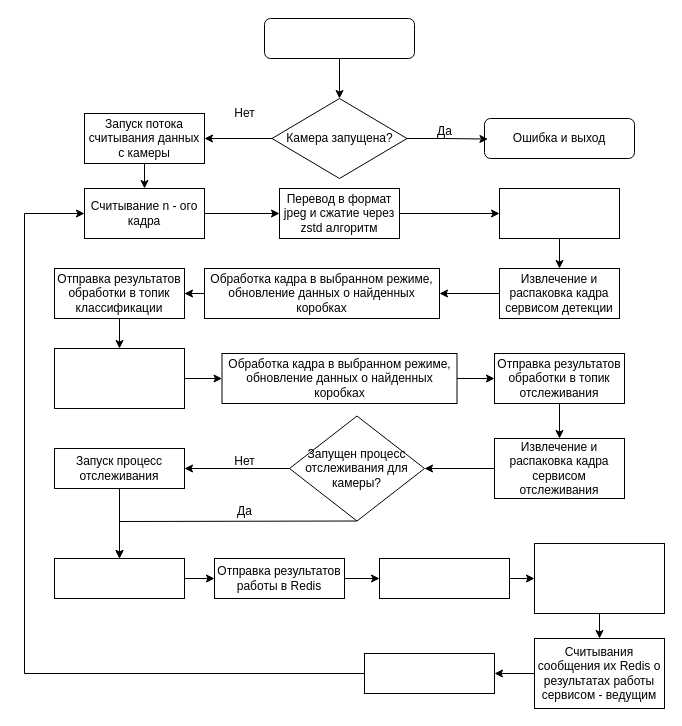
The diagram is 682 pixels wide and 726 high, and some of its shapes have lost their labels. The centre of each missing label's shape, as x and y in pixels:
"Запрос на начало процесса считывания с камеры" belongs at (x=339, y=38).
"Извлечение и распаковка кадра сервисом классификации" belongs at (x=119, y=378).
"Обработка кадра в выбранном режиме" belongs at (x=119, y=578).
"Отправка кадра и данных о процессе в топик kafka" belongs at (x=559, y=213).
"Отправка результатов в комнату камеры" belongs at (x=429, y=673).
"Отправка сообщения о результатах в Kafka" belongs at (x=444, y=578).
"Считывания сообщения о результатах работы сервисом - ведущим" belongs at (x=599, y=578).
